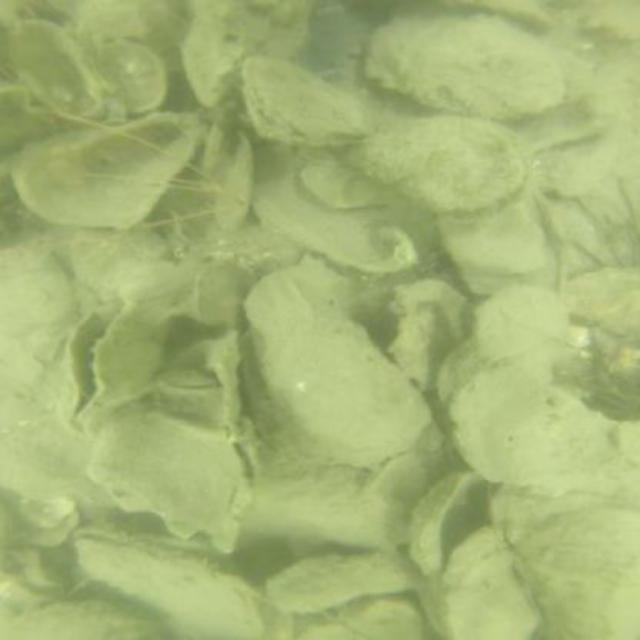Oyster-Closed: (447, 364, 638, 501), (356, 6, 572, 119), (63, 528, 265, 638), (336, 115, 529, 214), (488, 490, 601, 638), (241, 53, 374, 148), (261, 551, 437, 615), (212, 135, 258, 237)
Oyster-Open: (234, 259, 435, 467), (63, 307, 176, 432)
